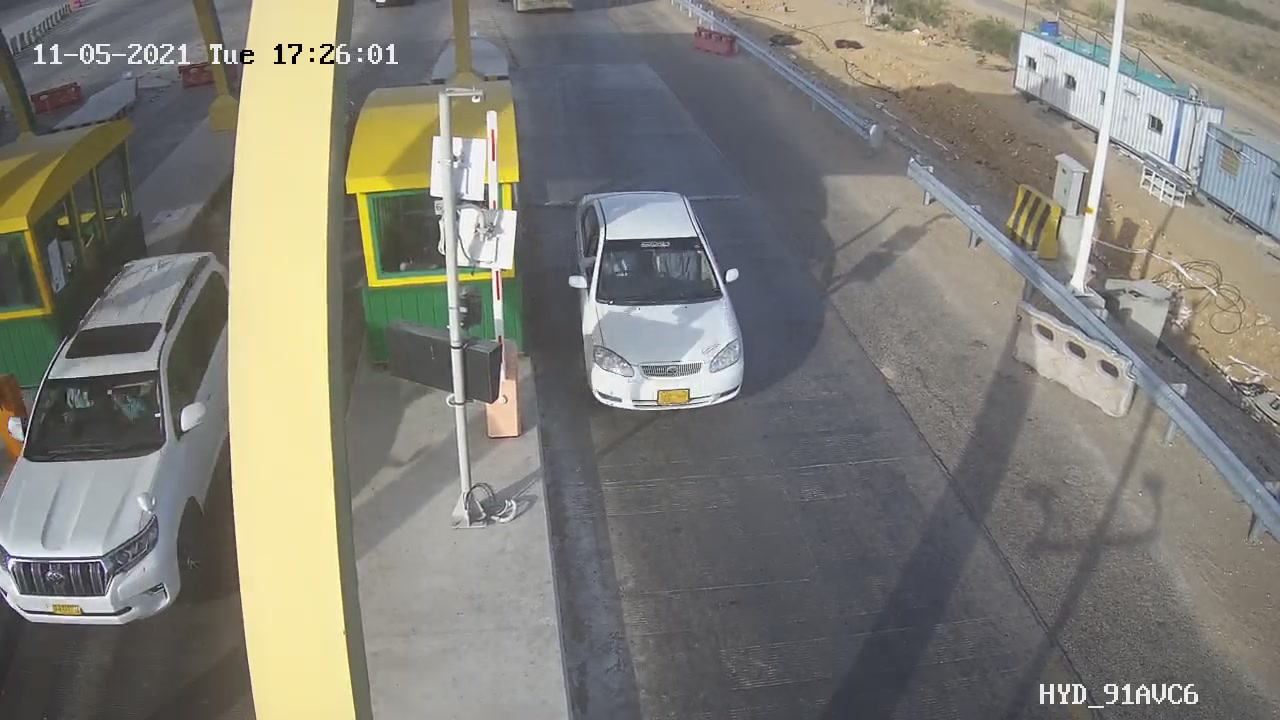F1: (546, 175, 768, 430)
